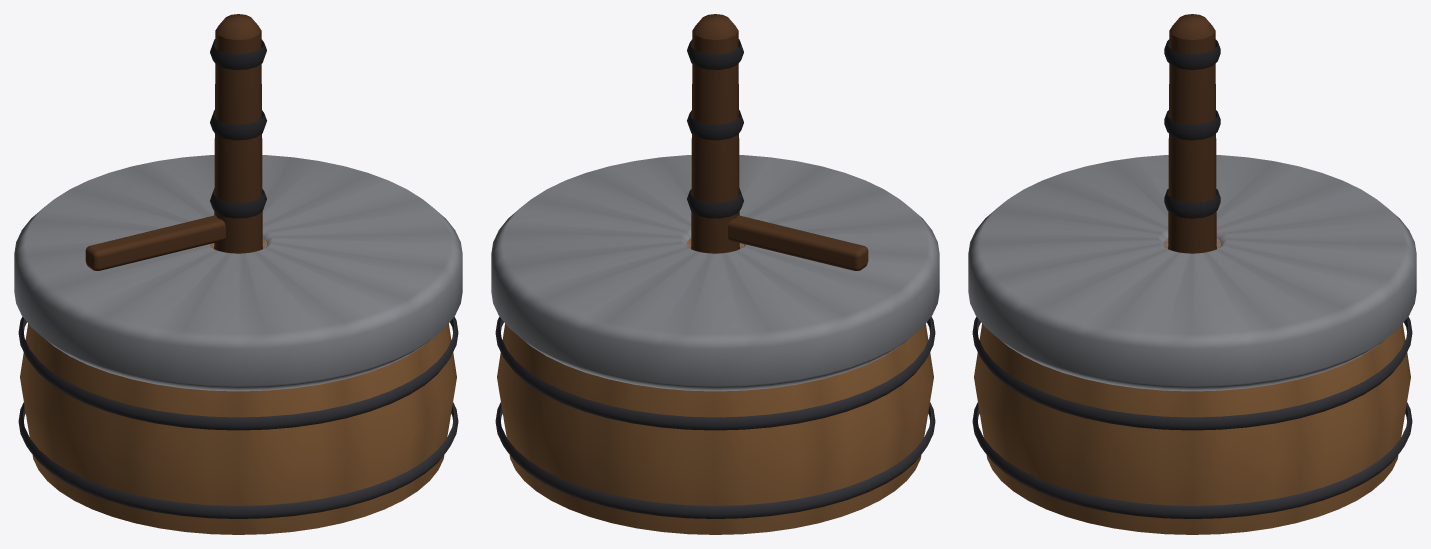
The model's file is furn_millstone.glb.
3 renders of one model, left to right at view 1: azimuth 30°, elevation 25°; view 2: azimuth 150°, elevation 25°; view 3: azimuth 270°, elevation 25°, orthographic.
Visible parts, largest first — view 1: furn_millstone_main; view 2: furn_millstone_main; view 3: furn_millstone_main.
Part boxes in pixels (left/top/right/bottom): furn_millstone_main: left=14, top=14, right=462, bottom=534; furn_millstone_main: left=491, top=14, right=939, bottom=534; furn_millstone_main: left=968, top=14, right=1416, bottom=534.
Size of the model in its own units: 1.56 by 1.65 by 1.56.
